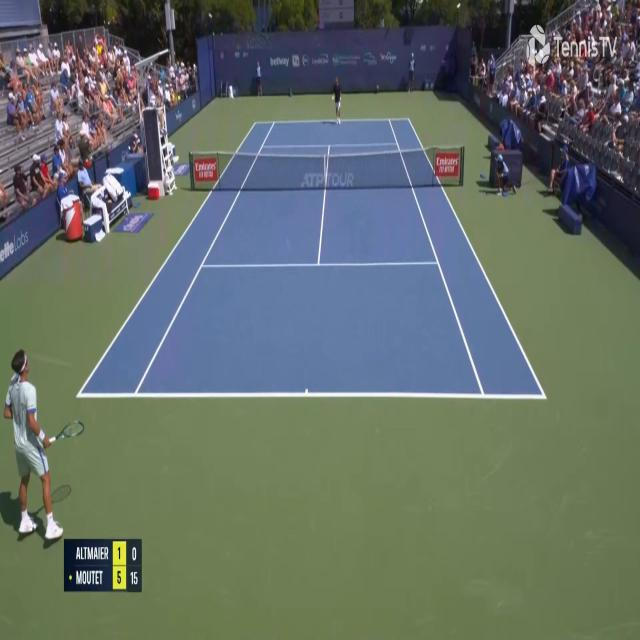tennis-player: (3, 343, 84, 541), (330, 75, 342, 126)
